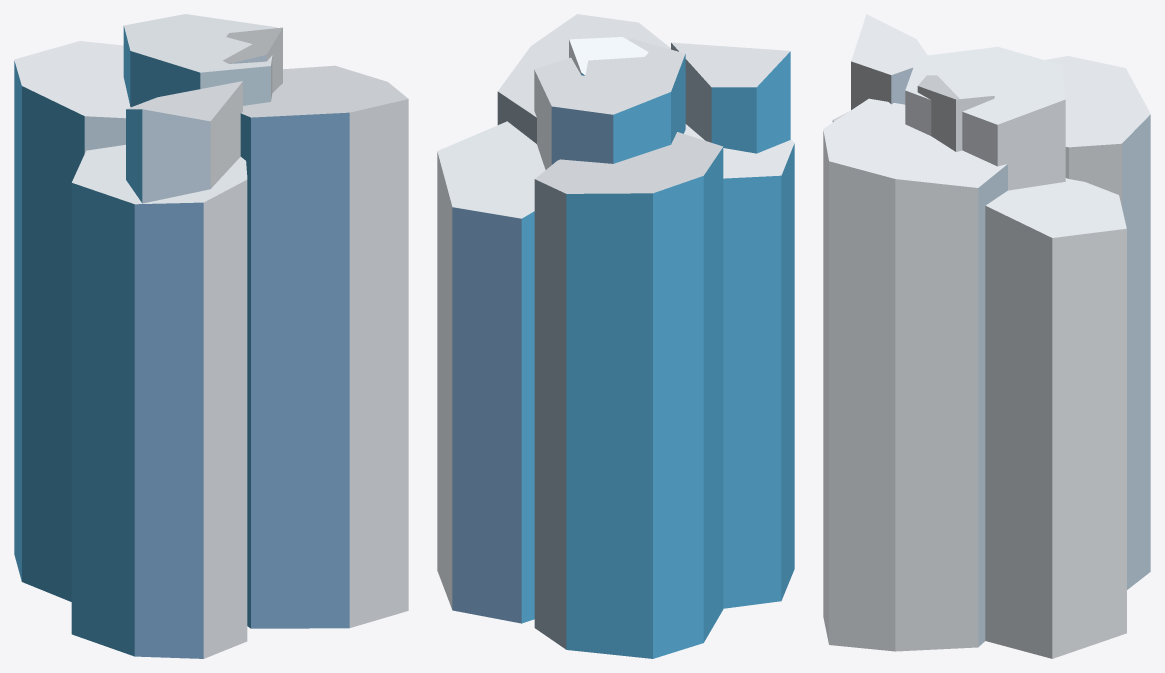
Rendered from GlacierBlock.fbx.
3 views of the same model, side by side, from view 1: azimuth 30°, elevation 25°; view 2: azimuth 150°, elevation 25°; view 3: azimuth 270°, elevation 25° (orthographic). The views are drawn at different scales.
Parts seen in each view (by area): view 1: GlacierBlock; view 2: GlacierBlock; view 3: GlacierBlock.
Boxes of the visible parts, box(x1,y1,x2,y2) form: GlacierBlock: box(14, 14, 408, 658); GlacierBlock: box(437, 14, 794, 658); GlacierBlock: box(823, 14, 1150, 658).
Bounding box in the file's own units: 1.59 × 2.72 × 1.56.
Materials: 1 (1 with a texture image).
